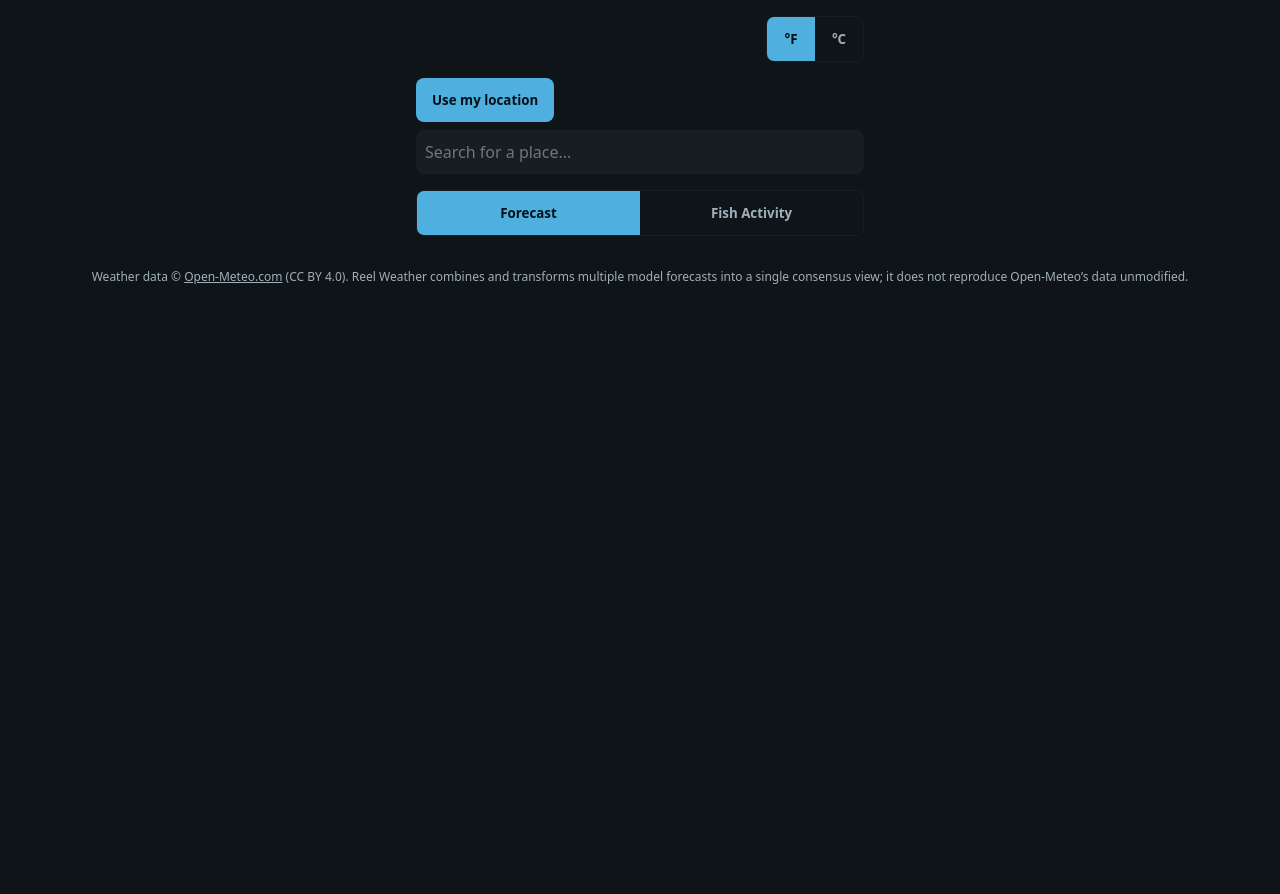
Test: App › loads a consensus card once a location is chosen via search
In the field with placeholder "Search for a place...": x=640, y=152 x1=416 y1=130 x2=864 y2=174, type "Boulder"
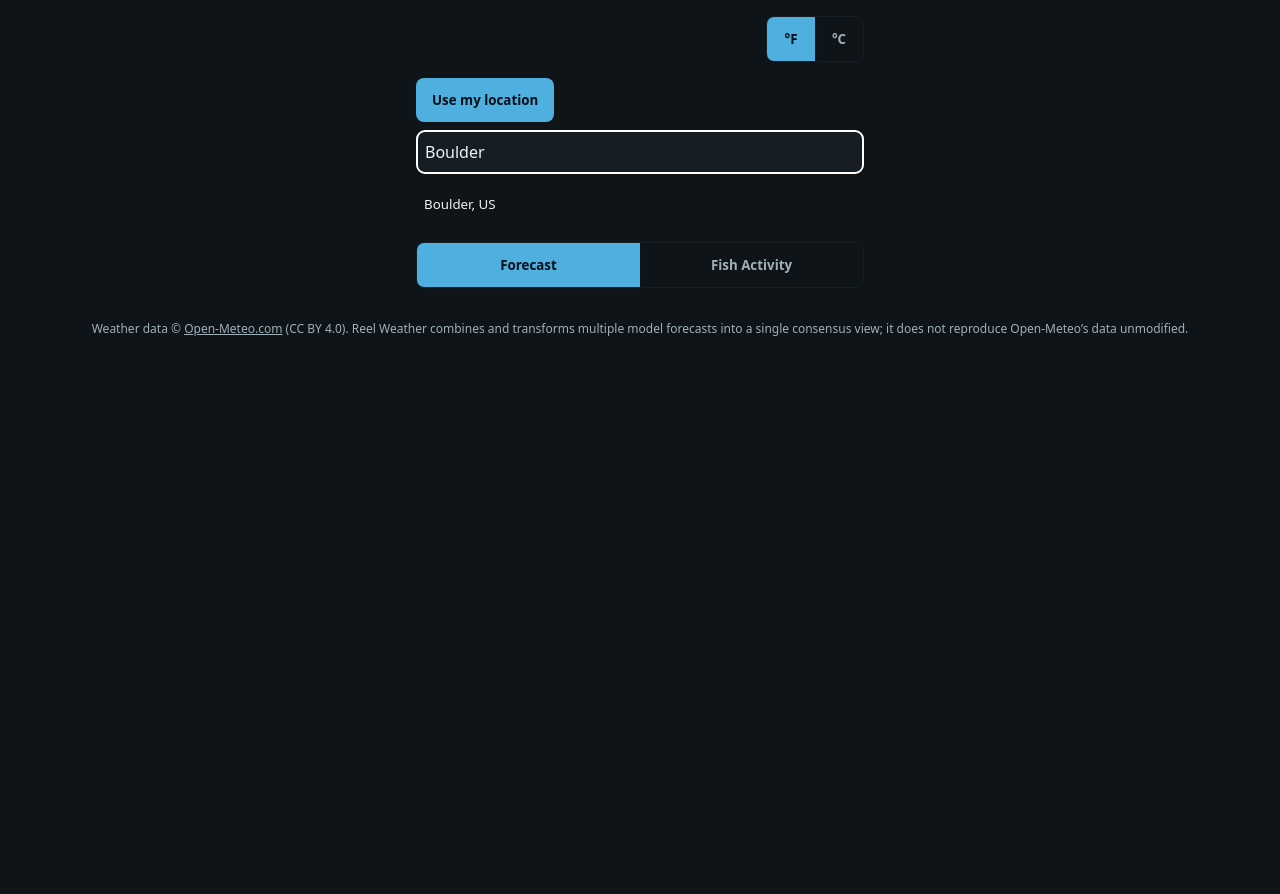
Click the button "Boulder, US": x=448, y=204 x1=416 y1=182 x2=864 y2=226
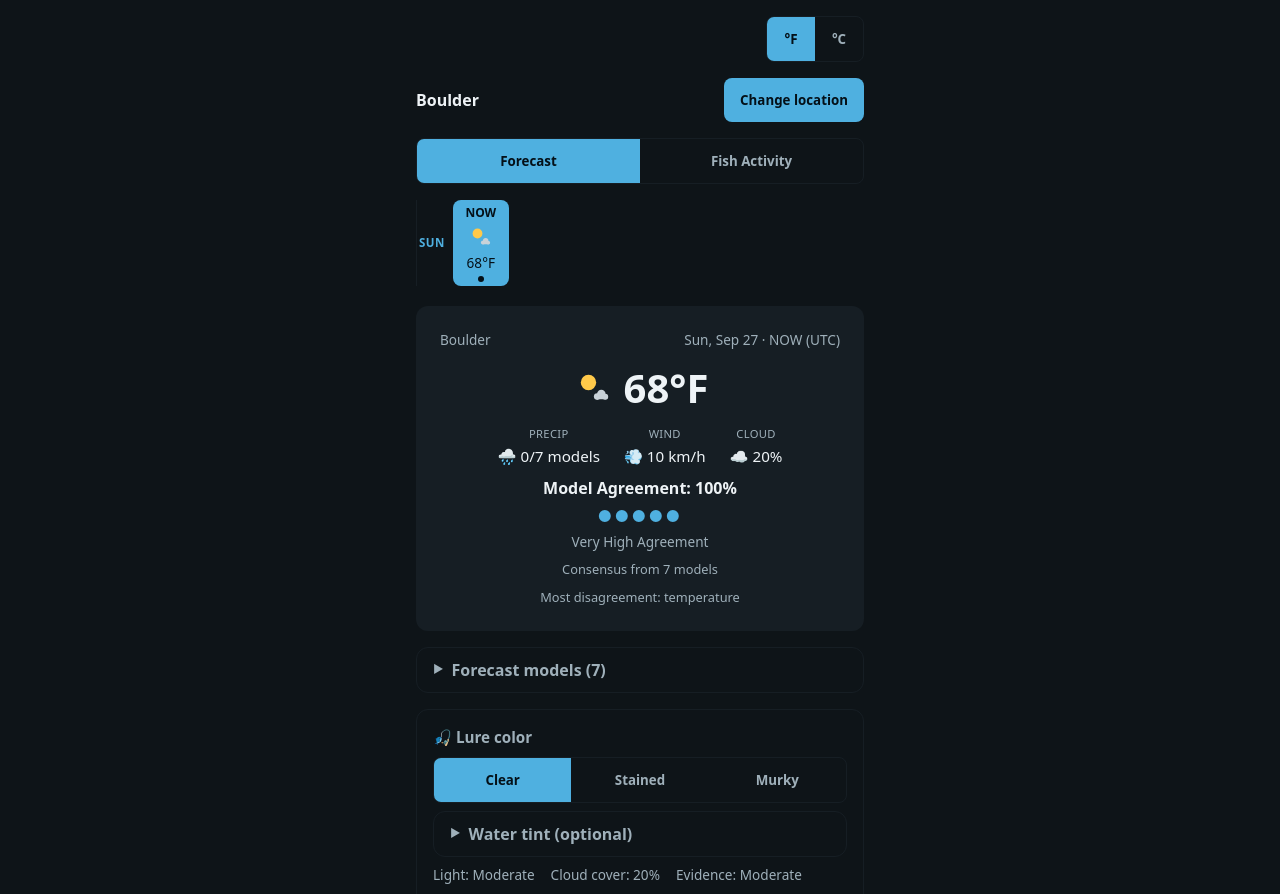
Expected: the text "Consensus from" is shown, x1=562 y1=560 x2=663 y2=578
